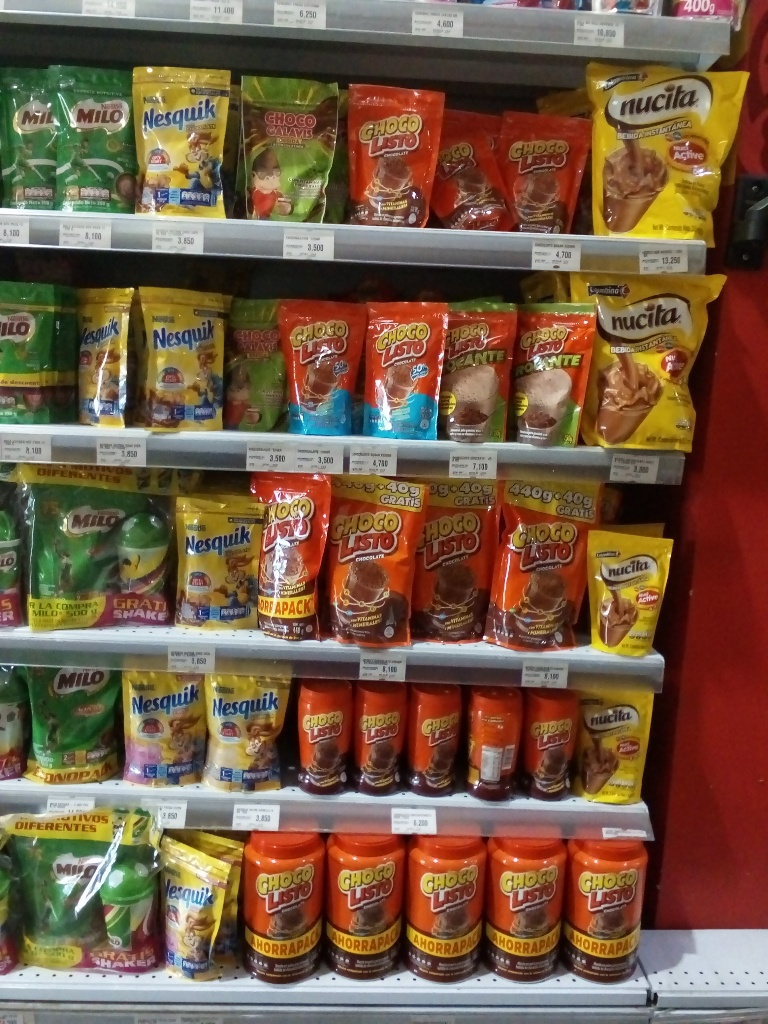COL0170102DYP25000: (511, 297, 602, 452)
COL0170103DYP44000: (241, 461, 337, 647)
COL0170103TRR00100: (561, 823, 651, 990)
COL0170103TRR30000: (288, 685, 359, 801)
COL0170104DYP20000: (359, 294, 447, 442)
COL0170203DYP25000: (3, 273, 73, 428)
COL0170203DYP50000: (7, 814, 107, 978)
COL0170303DYP20000: (125, 61, 232, 218)
COL0170305DYP20000: (152, 822, 248, 978)
COL0170306DYP20000: (199, 666, 292, 797)
